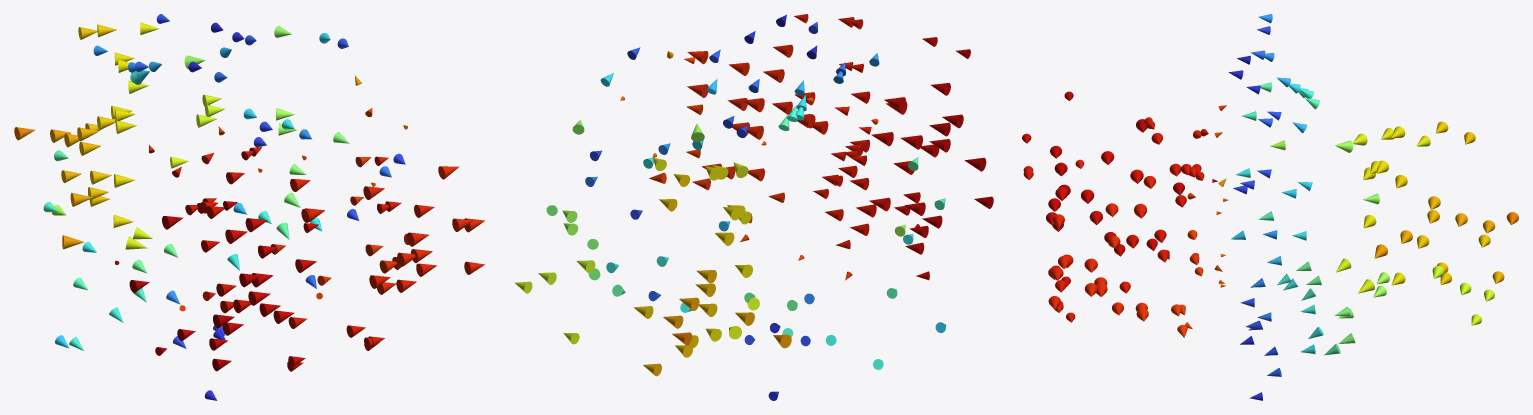
The model's file is LineasCorrienteH2-O2_mh2-5.58_V-0.8.glb.
The picture shows the model from 3 angles, left to right: view 1: azimuth 30°, elevation 25°; view 2: azimuth 150°, elevation 25°; view 3: azimuth 270°, elevation 25°; orthographic projection. The views are drawn at different scales.
Size of the model in its own units: 0.000925 by 0.000967 by 0.00123.
2 materials, 2 textured.
